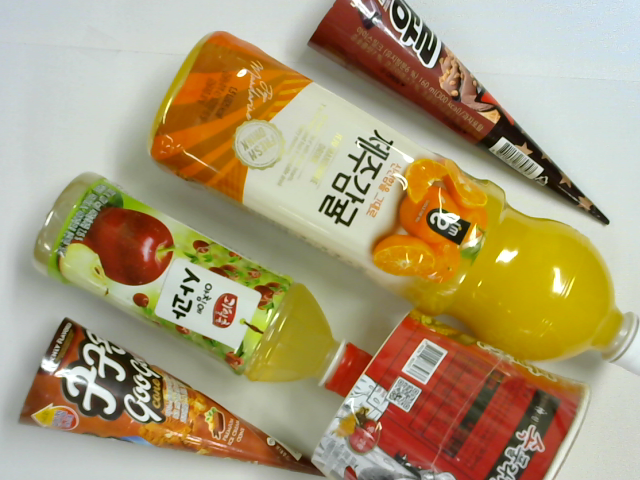GooGoo_Cone_CVS: (17, 319, 334, 477)
Hejangpul: (308, 314, 594, 480)
Jeju_Tangerine_1.5L: (149, 35, 640, 374)
Morning_Apple_500ml: (33, 175, 373, 397)
World_Cone_Choco: (306, 1, 607, 223)
